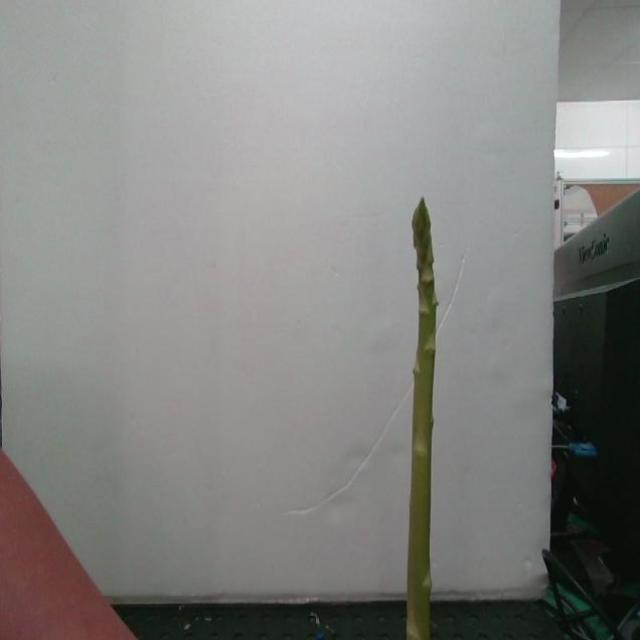aspargus: (406, 201, 442, 640)
